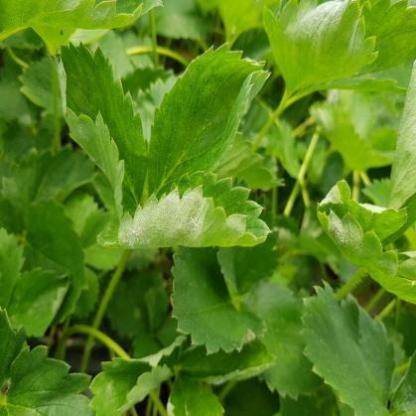Strawberry_Powdery_Mildew_Leaf: (47, 41, 150, 226), (95, 170, 271, 249), (316, 178, 415, 305), (89, 333, 189, 415)
